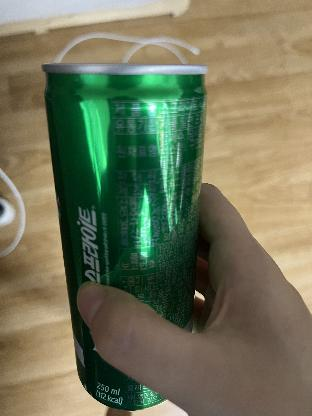Can: (42, 65, 209, 412)
